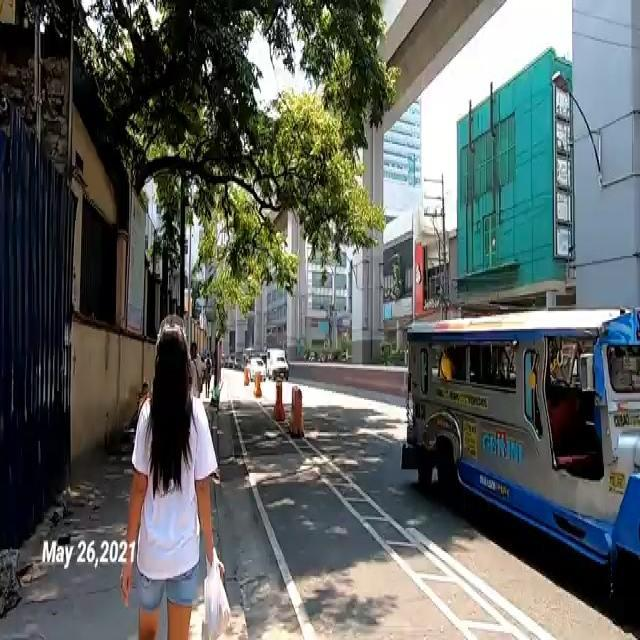jeepney: (402, 305, 640, 573)
